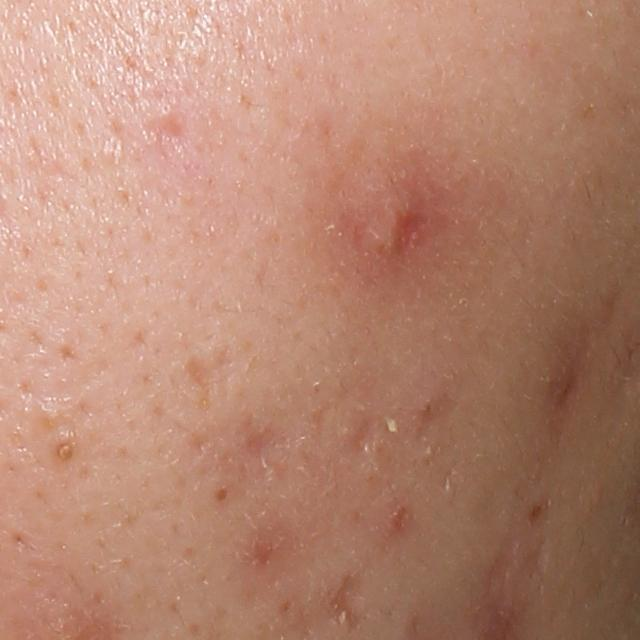atrophic_scar: (539, 308, 587, 473), (240, 414, 287, 467), (327, 576, 364, 632), (346, 408, 381, 461), (142, 111, 194, 144), (183, 355, 212, 390)
comedo: (50, 433, 80, 468), (207, 478, 235, 508)
